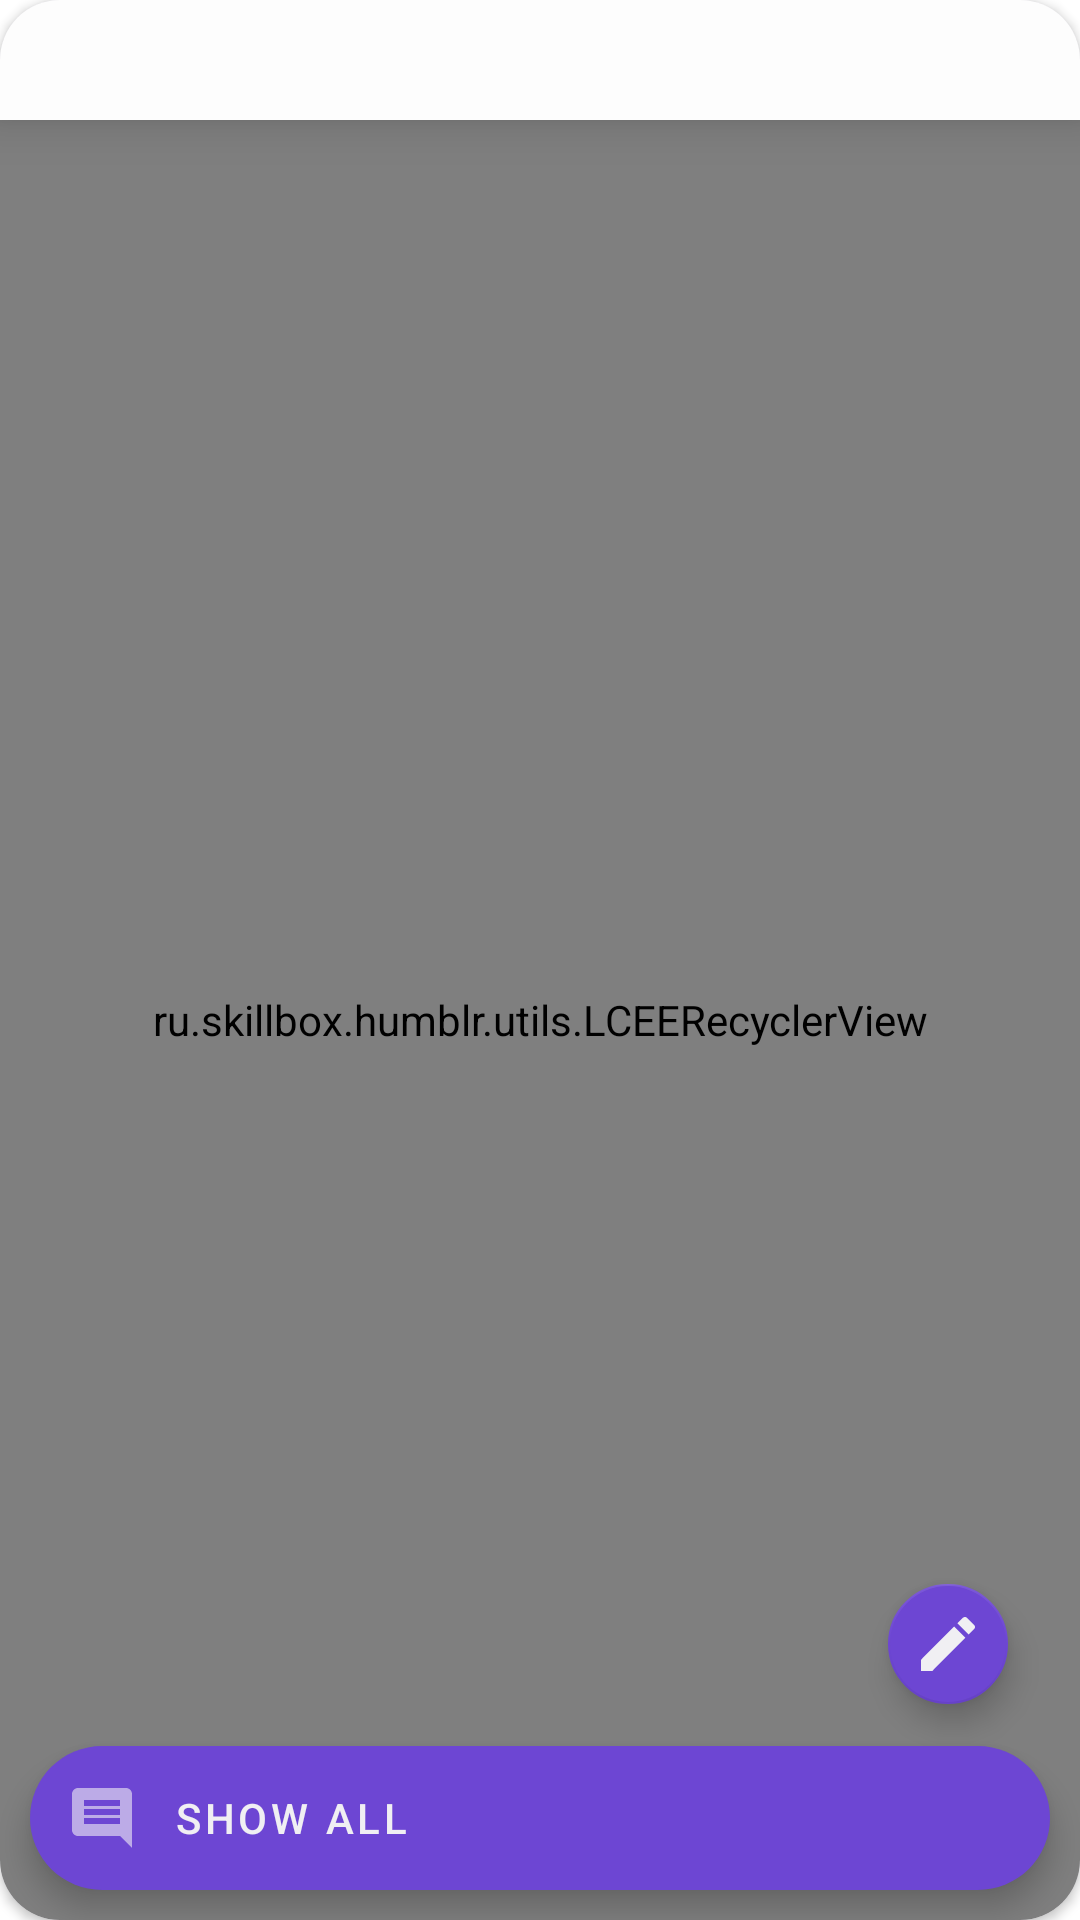

Where to tap for icons on this 1080px×1920px app screen, as (x,y):
create: (948,1644)
